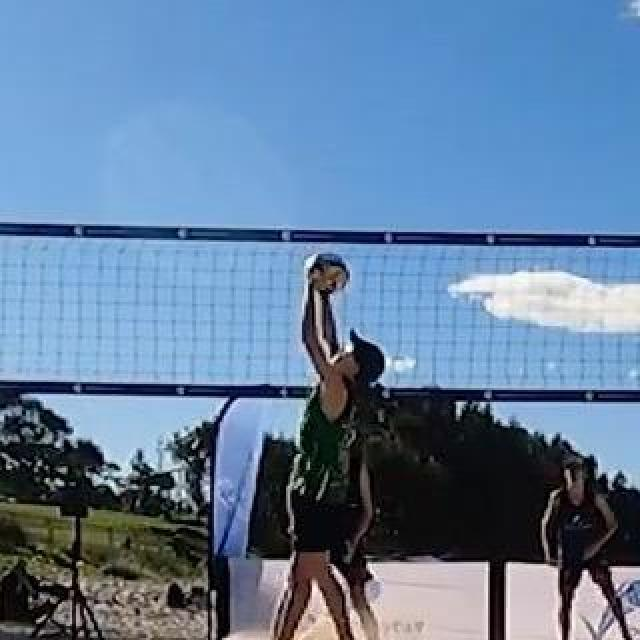volleyball: (305, 251, 349, 293)
